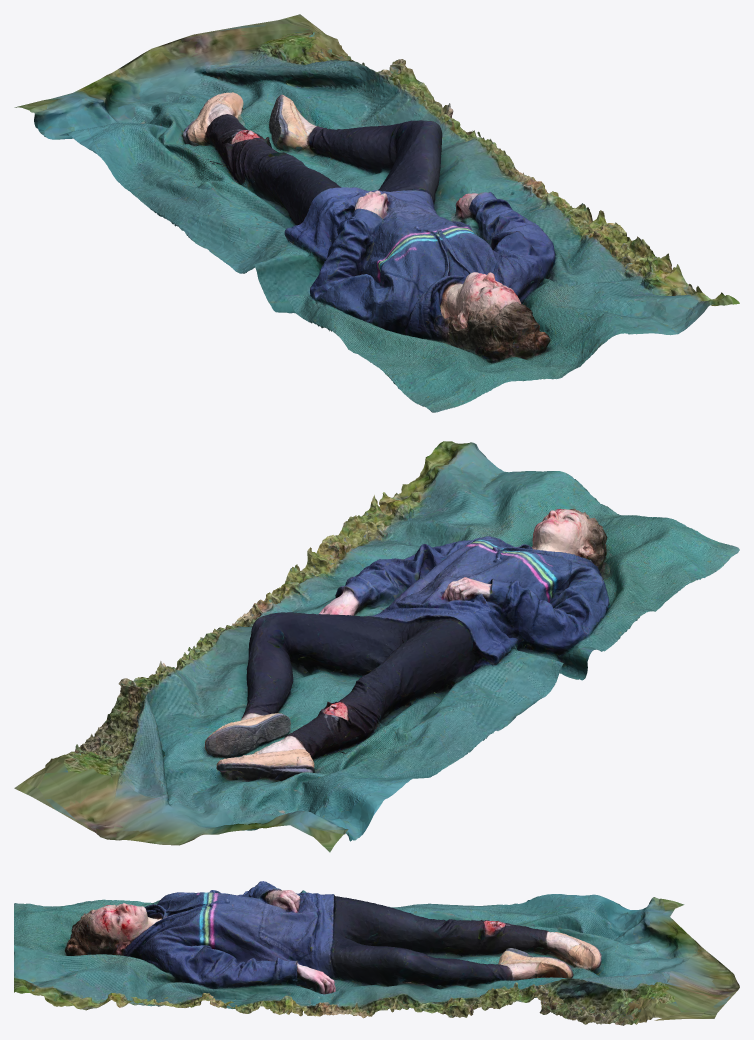
File: female_casualty.glb
3 renders of one model, top to bottom at view 1: azimuth 30°, elevation 25°; view 2: azimuth 150°, elevation 25°; view 3: azimuth 270°, elevation 25°, orthographic. The views are drawn at different scales.
Size of the model in its own units: 0.6848 by 0.1855 by 1.77.
Materials: 1 (1 with a texture image).
